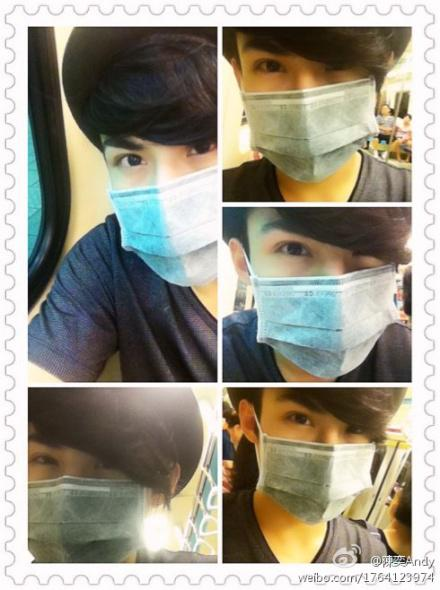OK: (103, 119, 258, 274), (249, 217, 395, 363), (237, 36, 380, 179), (18, 426, 152, 560), (260, 392, 389, 521)
